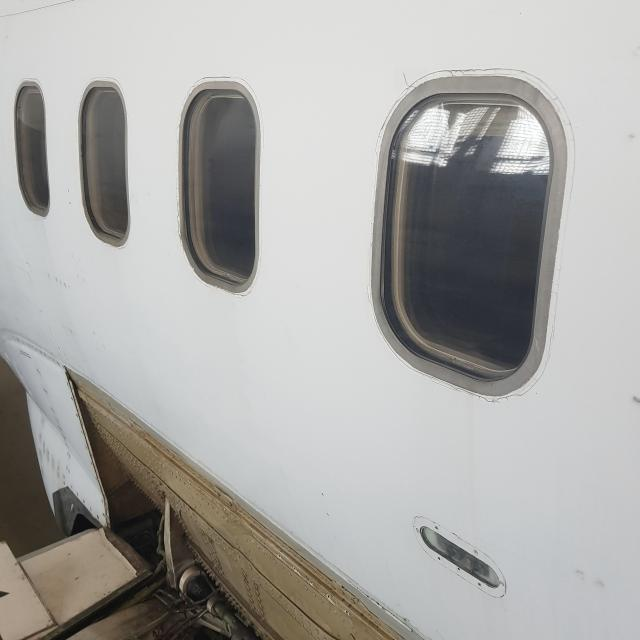crack: (396, 69, 430, 93)
